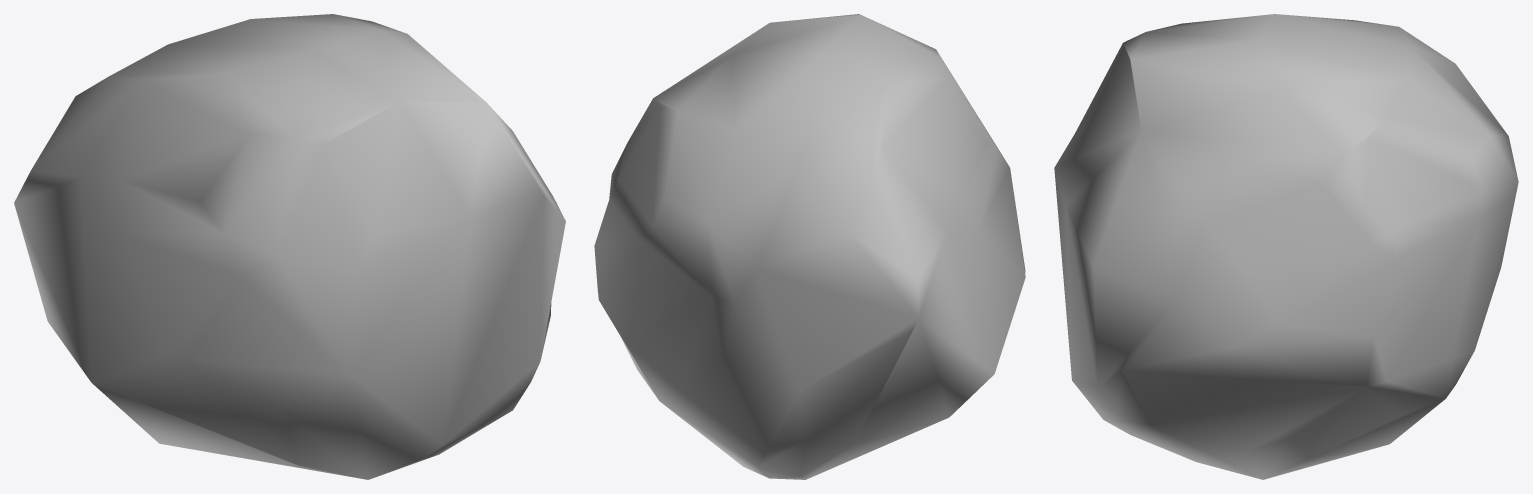
Rendered from Rock_2b.gltf.
The picture shows the model from 3 angles, left to right: view 1: azimuth 30°, elevation 25°; view 2: azimuth 150°, elevation 25°; view 3: azimuth 270°, elevation 25°; orthographic projection. The views are drawn at different scales.
Visible parts, largest first — view 1: Rock_2b; view 2: Rock_2b; view 3: Rock_2b.
Part boxes in pixels (box(x1,y1,x2,y2)): Rock_2b: box(14, 14, 565, 479); Rock_2b: box(594, 14, 1025, 479); Rock_2b: box(1054, 14, 1518, 479).
Bounding box in the file's own units: 34.79 × 32.73 × 34.34.
1 material, 1 textured.
